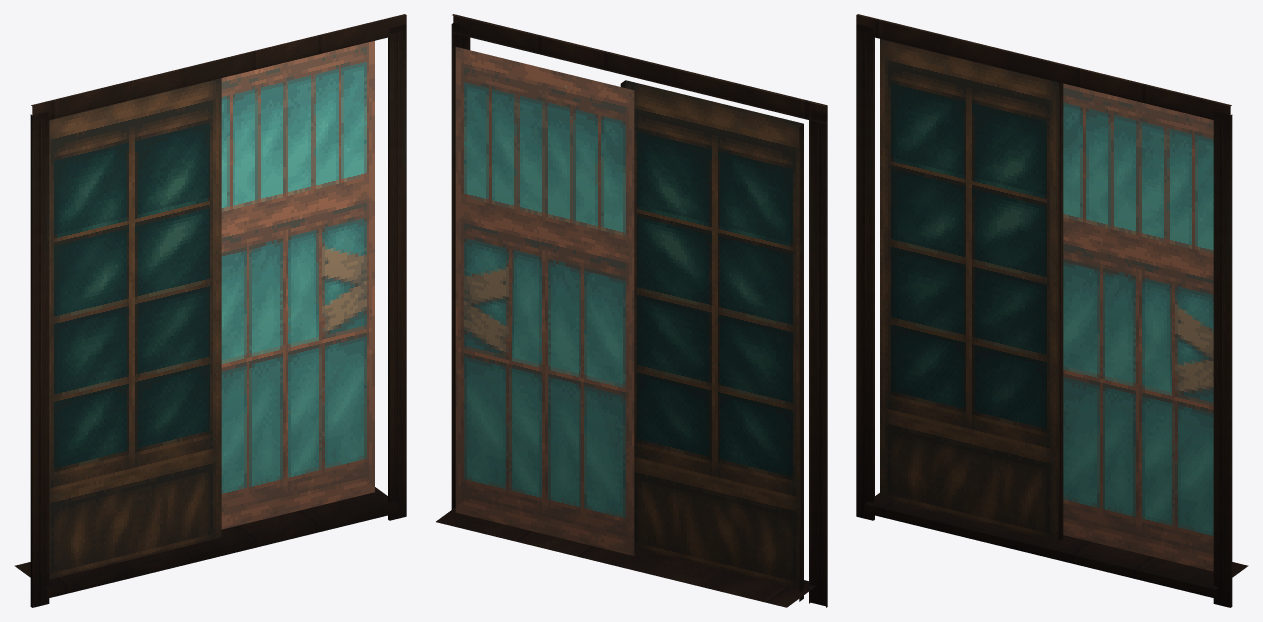
The model's file is prop_sash-12-16-3.glb.
3 renders of one model, left to right at view 1: azimuth 30°, elevation 25°; view 2: azimuth 150°, elevation 25°; view 3: azimuth 330°, elevation 25°, orthographic.
Parts seen in each view (by area): view 1: prop_sash-12-16-3; view 2: prop_sash-12-16-3; view 3: prop_sash-12-16-3.
Part boxes in pixels (box(x1,y1,x2,y2)): prop_sash-12-16-3: box(14, 14, 406, 607); prop_sash-12-16-3: box(436, 14, 827, 607); prop_sash-12-16-3: box(856, 14, 1248, 607).
Bounding box in the file's own units: 1.32 × 1.69 × 0.2.
Materials: 3 (3 with a texture image).
